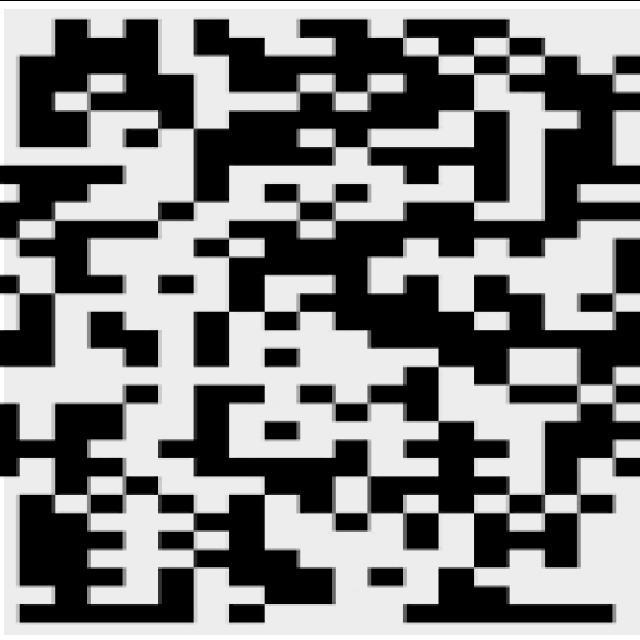Data-Matrix: (4, 8, 640, 634)
